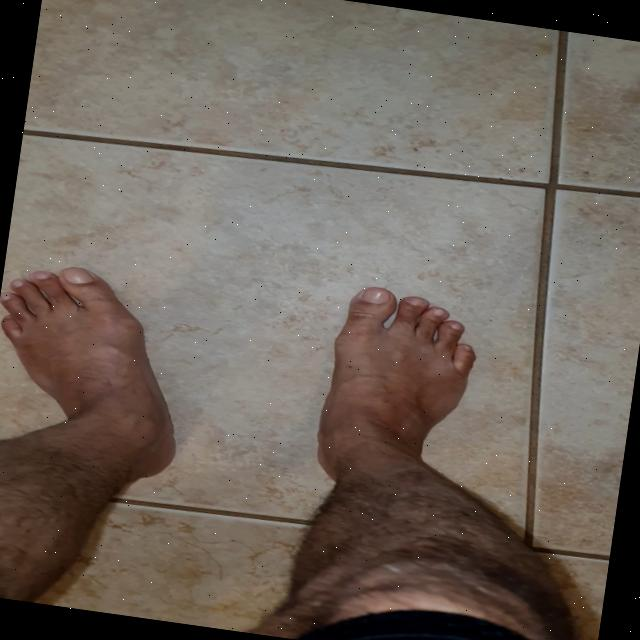no-boots: (0, 249, 224, 489), (302, 274, 492, 504)
